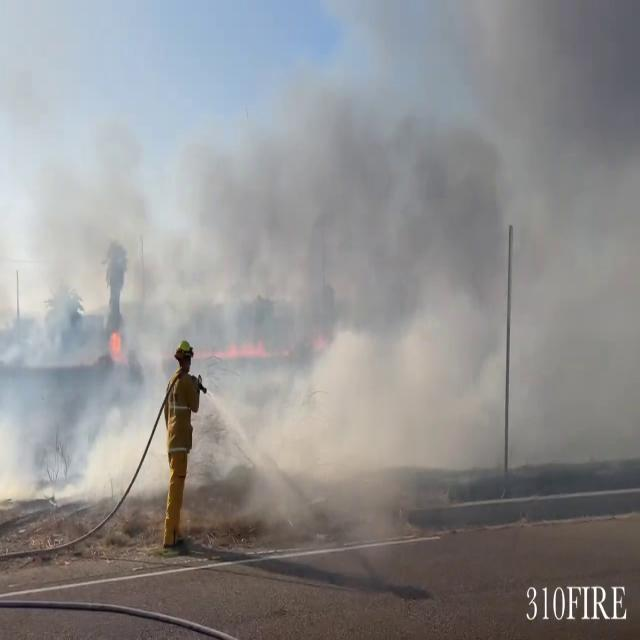Smoke: (0, 25, 638, 530)
